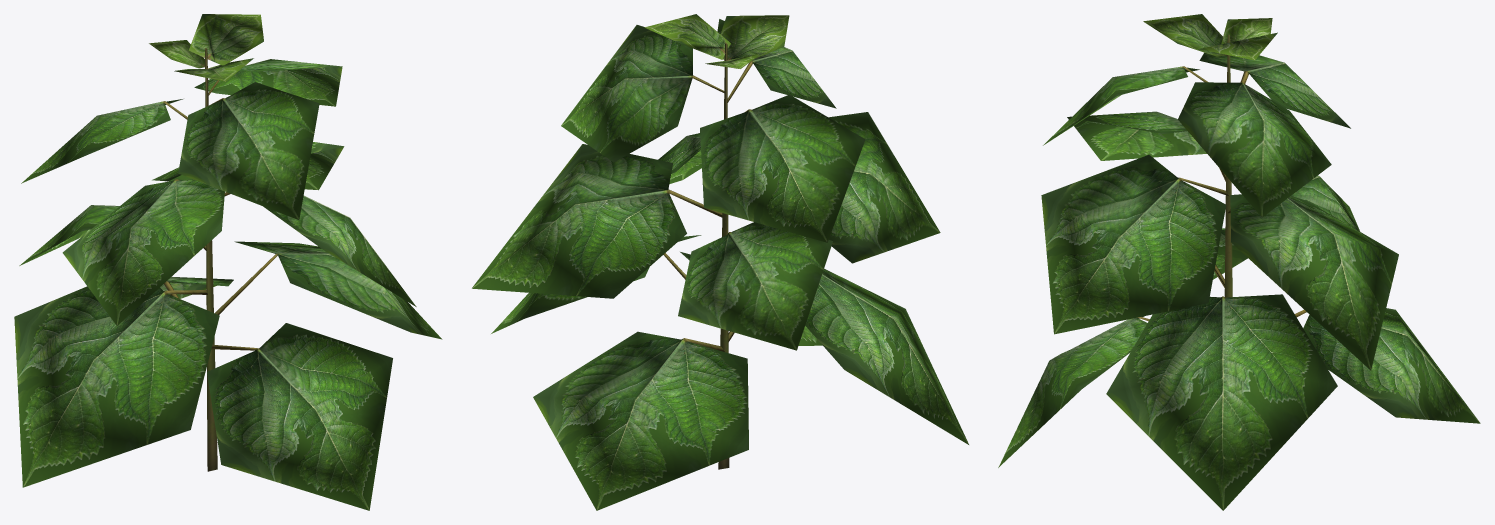
The model's file is plant_02_m.FBX.
3 renders of one model, left to right at view 1: azimuth 30°, elevation 25°; view 2: azimuth 150°, elevation 25°; view 3: azimuth 270°, elevation 25°, orthographic. The views are drawn at different scales.
Parts seen in each view (by area): view 1: plant_02; view 2: plant_02; view 3: plant_02.
Boxes of the visible parts, x1,y1,x2,y2 form: plant_02: (14, 14, 442, 510); plant_02: (472, 14, 968, 510); plant_02: (998, 14, 1480, 510).
Size of the model in its own units: 65.73 by 60.97 by 59.56.
